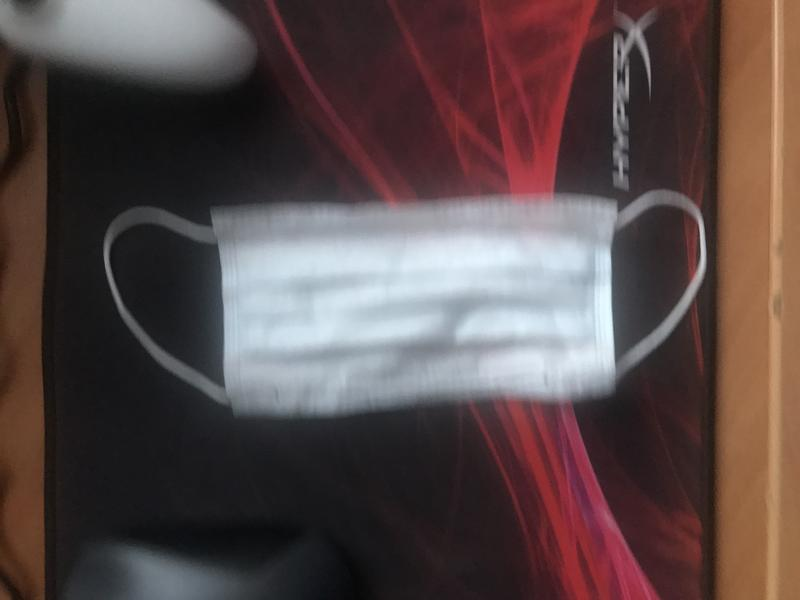medical_mask: (107, 191, 707, 418)
